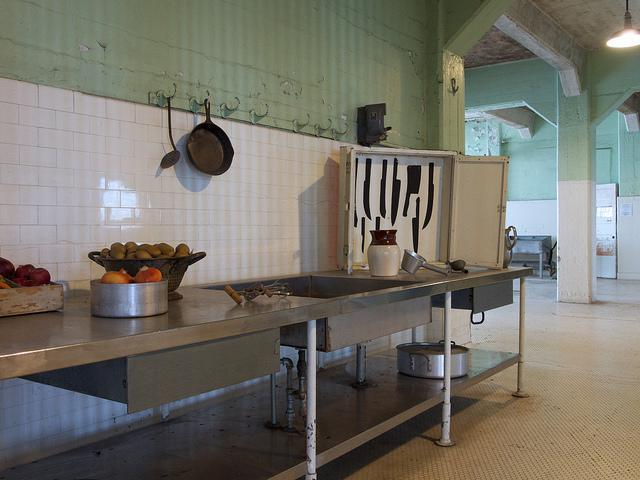Lavaplatos: (199, 270, 432, 349)
